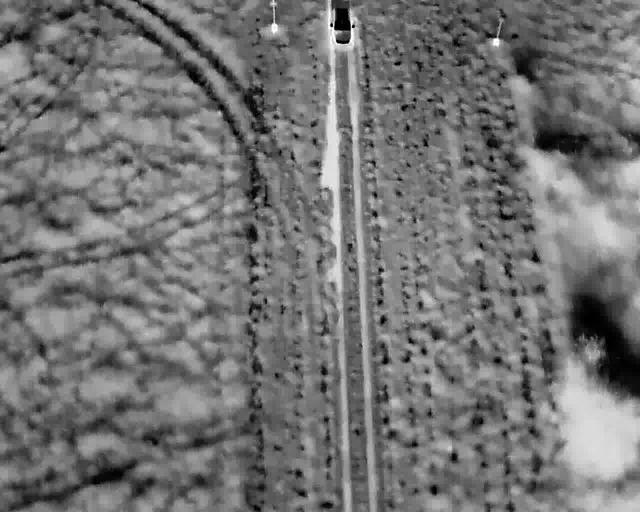car: (327, 0, 356, 45)
